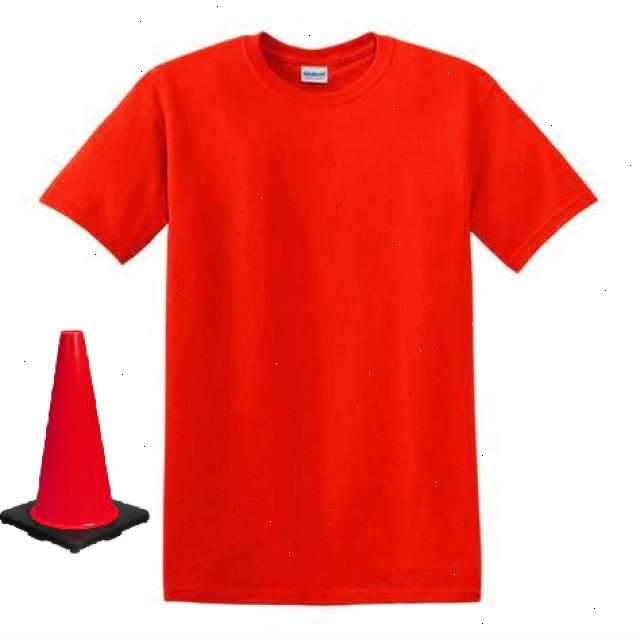traffic cone: (3, 324, 153, 562)
